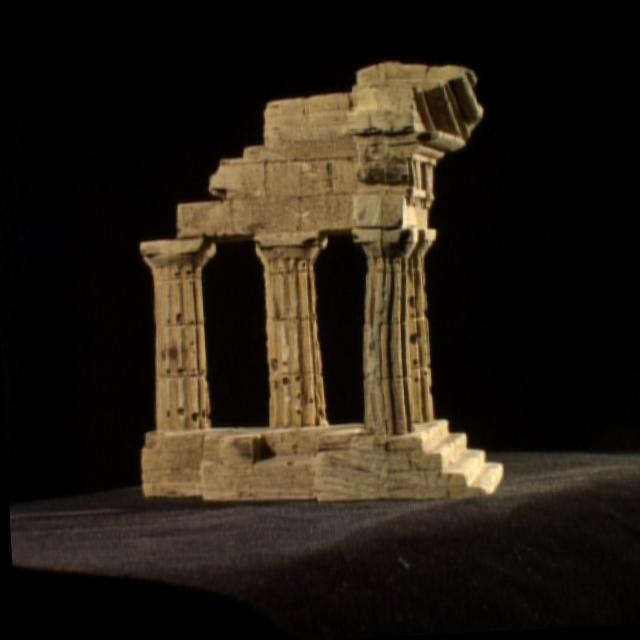Instance-Segmentation: (141, 62, 504, 503)
